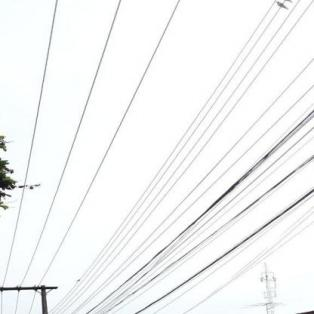Poste: (36, 282, 60, 314)
